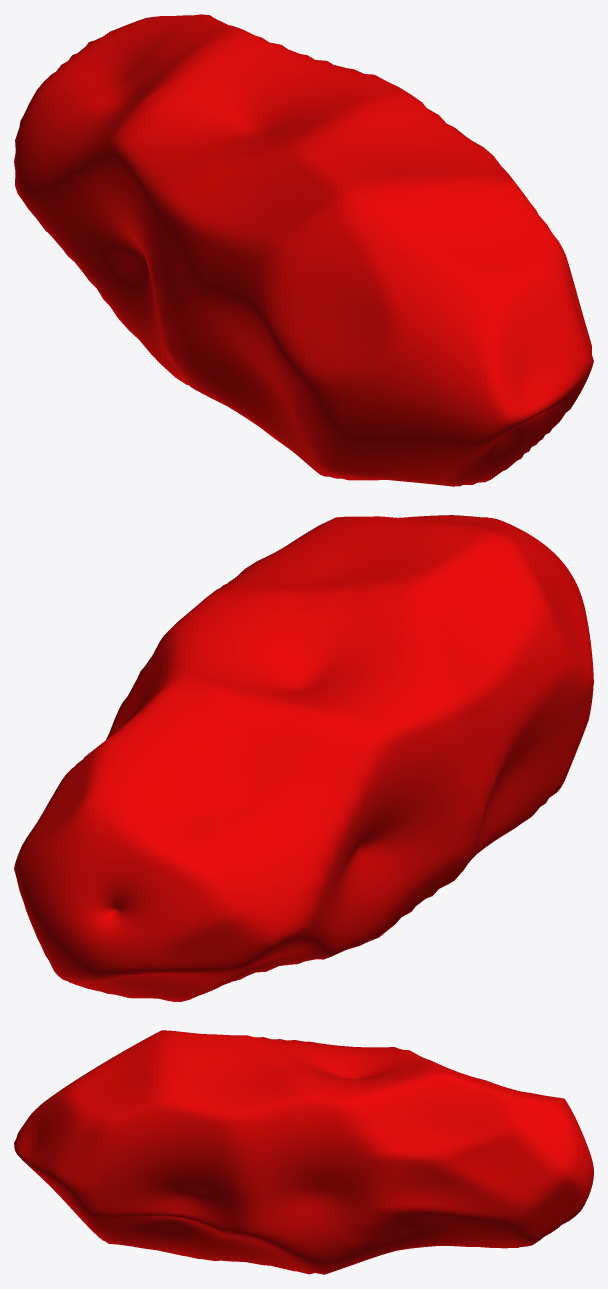
Rendered from rock1-SP.fbx.
The picture shows the model from 3 angles, top to bottom: view 1: azimuth 30°, elevation 25°; view 2: azimuth 150°, elevation 25°; view 3: azimuth 270°, elevation 25°; orthographic projection. The views are drawn at different scales.
Visible parts, largest first — view 1: Cube; view 2: Cube; view 3: Cube.
Part boxes in pixels (<box>): Cube: <box>14,14,593,486</box>; Cube: <box>14,515,593,1001</box>; Cube: <box>14,1030,593,1274</box>.
Size of the model in its own units: 188 by 196 by 498.
